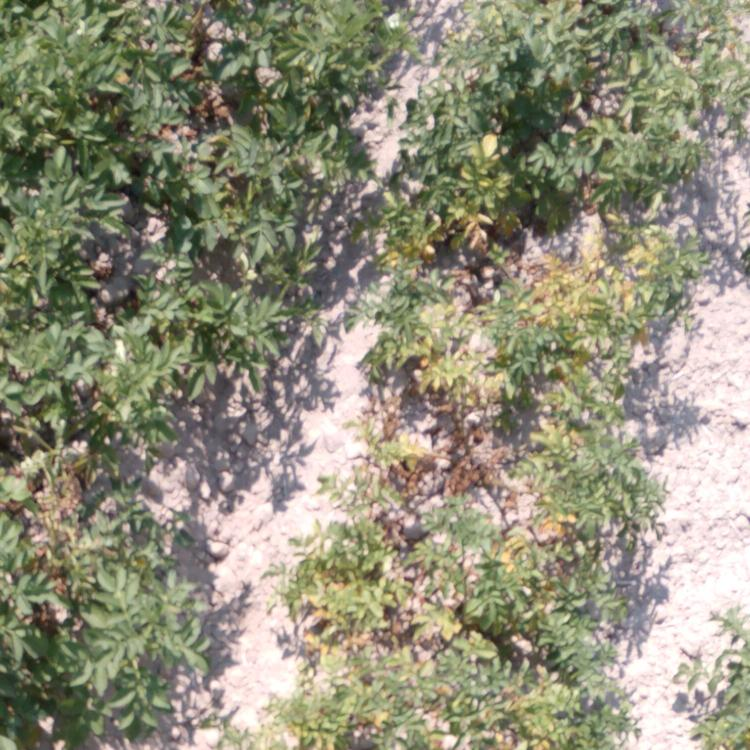healthy: (1, 475, 200, 750), (1, 109, 321, 270), (1, 1, 383, 110), (1, 266, 290, 378), (458, 1, 737, 110), (1, 382, 163, 474), (692, 621, 750, 750)
stressed: (278, 533, 626, 750), (359, 344, 643, 533), (375, 207, 705, 341), (395, 118, 710, 206)
